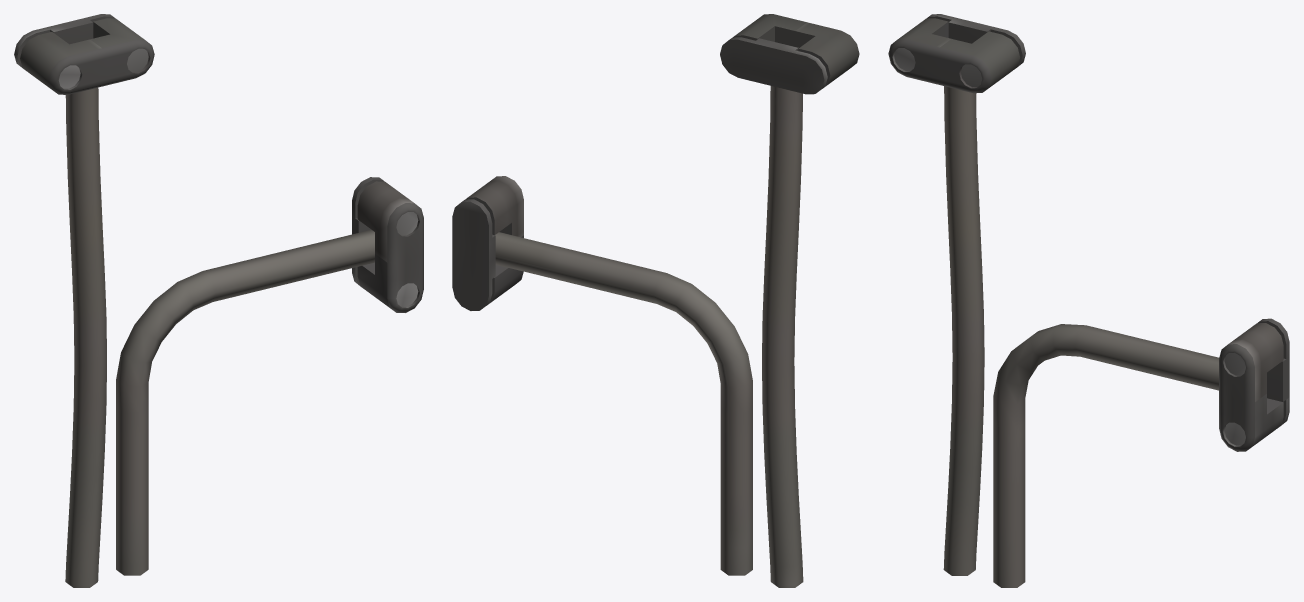
The model's file is wall-junction-box--6.gltf.
3 views of the same model, side by side, from view 1: azimuth 30°, elevation 25°; view 2: azimuth 150°, elevation 25°; view 3: azimuth 330°, elevation 25° (orthographic). The views are drawn at different scales.
Parts seen in each view (by area): view 1: cable_double_junction; view 2: cable_double_junction; view 3: cable_double_junction.
Part boxes in pixels (x1,y1,x2,y2): cable_double_junction: [14, 14, 423, 587]; cable_double_junction: [452, 14, 859, 587]; cable_double_junction: [888, 14, 1289, 587].
Size of the model in its own units: 0.1481 by 0.2073 by 0.0259.
Materials: 1 (1 with a texture image).
